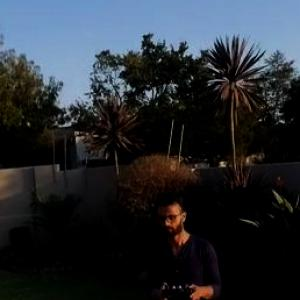follow: (137, 175, 221, 299)
